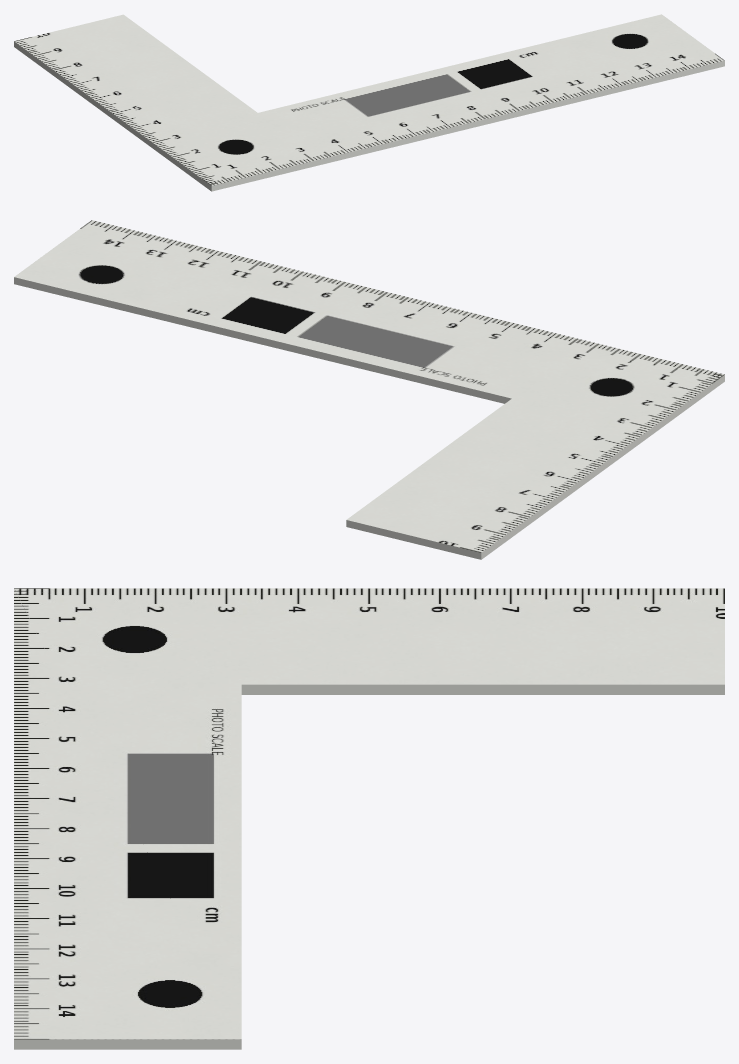
File: ForensicScaleL.obj
The picture shows the model from 3 angles, top to bottom: view 1: azimuth 30°, elevation 25°; view 2: azimuth 150°, elevation 25°; view 3: azimuth 270°, elevation 25°; orthographic projection. The views are drawn at different scales.
Visible parts, largest first — view 1: ScalePlastic; view 2: ScalePlastic; view 3: ScalePlastic.
Boxes of the visible parts, bbox=[...] form: ScalePlastic: bbox=[14, 14, 724, 191]; ScalePlastic: bbox=[14, 220, 724, 559]; ScalePlastic: bbox=[14, 588, 724, 1049].
Bounding box in the file's own units: 0.15 × 0.0016 × 0.1.
1 material, 1 textured.
